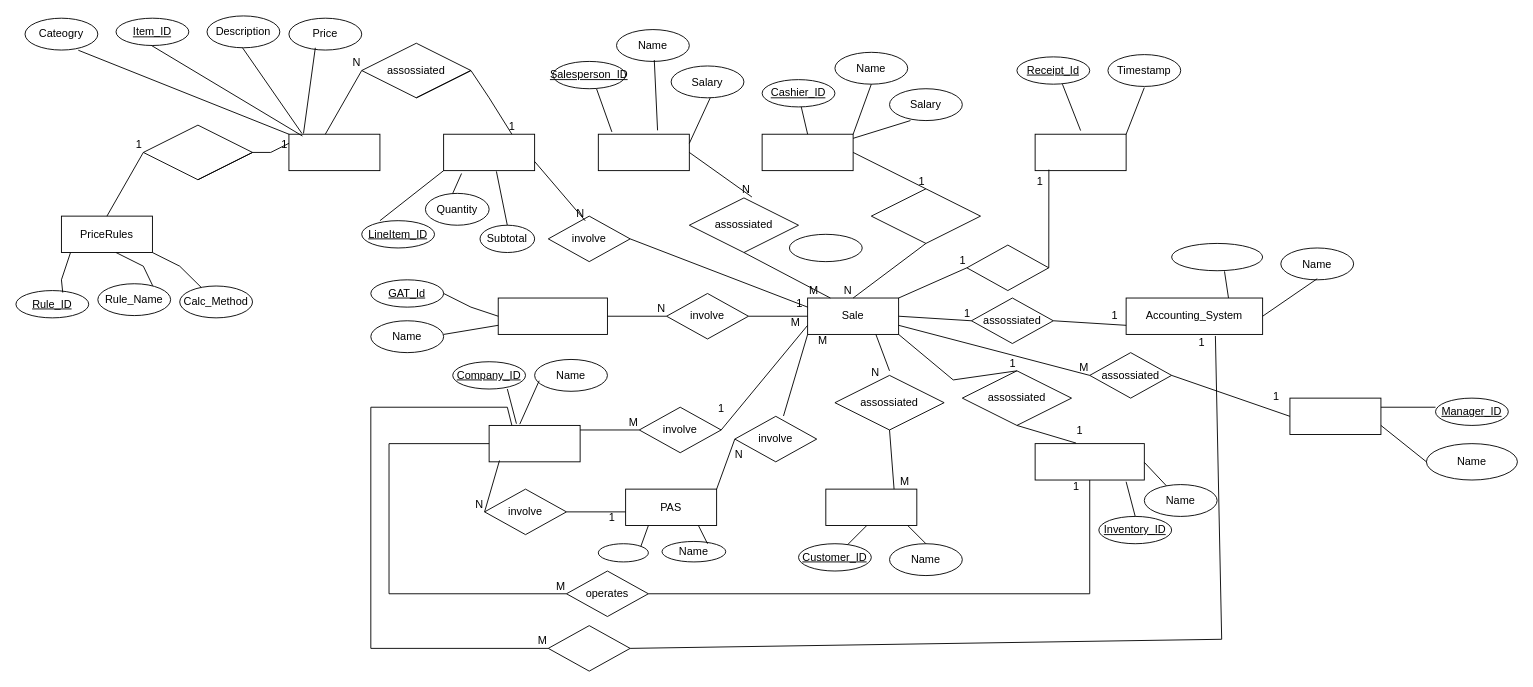
The diagram is 1533 pixels wide and 687 high, and some of its shapes have lost their labels. Here are the shapes that lost their labels. From the top down, the centre of each, then its label:
(x=197, y=152): has
(x=334, y=152): Item
(x=489, y=152): SaleLineItem
(x=643, y=152): SalesPerson
(x=807, y=152): Cashier
(x=1080, y=152): Receipt
(x=925, y=215): Handle
(x=825, y=247): Sale_ID
(x=1007, y=267): generates
(x=1217, y=257): Accounting_ID
(x=552, y=315): GovttTaxAgencies
(x=1335, y=416): Manager
(x=534, y=443): Company
(x=1089, y=461): InventorySystem
(x=871, y=507): Customer
(x=622, y=552): PAS_ID
(x=588, y=648): uses
